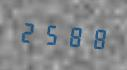eight: (62, 19, 83, 51), (84, 21, 105, 53)
five: (40, 18, 61, 49)
two: (18, 16, 39, 47)
